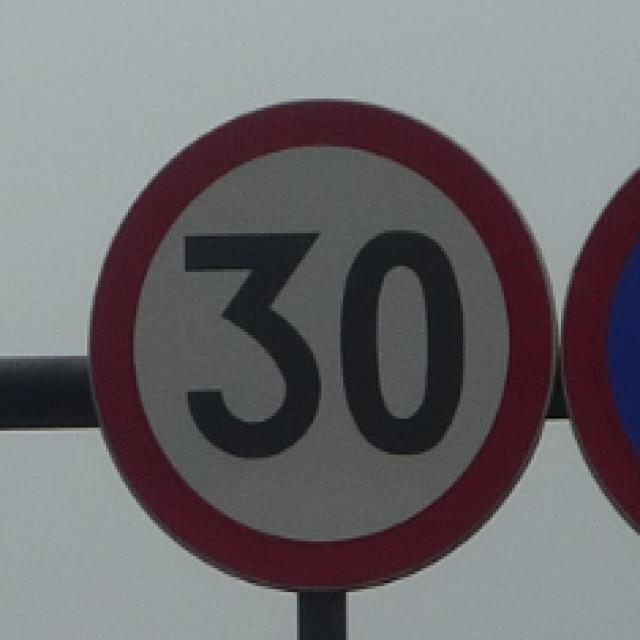Speed: (82, 102, 555, 596)
